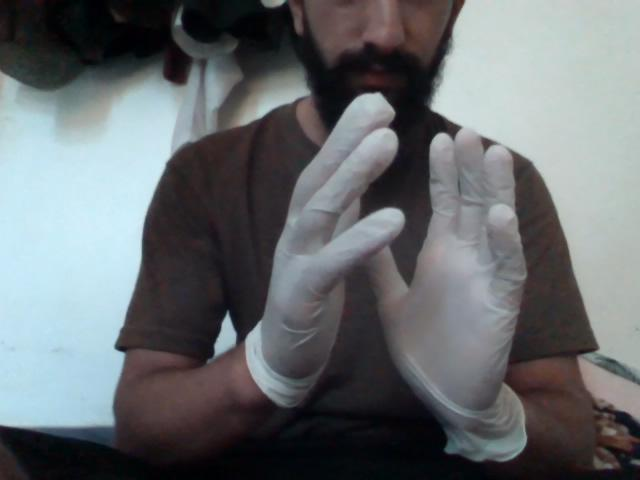gloves: (237, 96, 555, 432)
